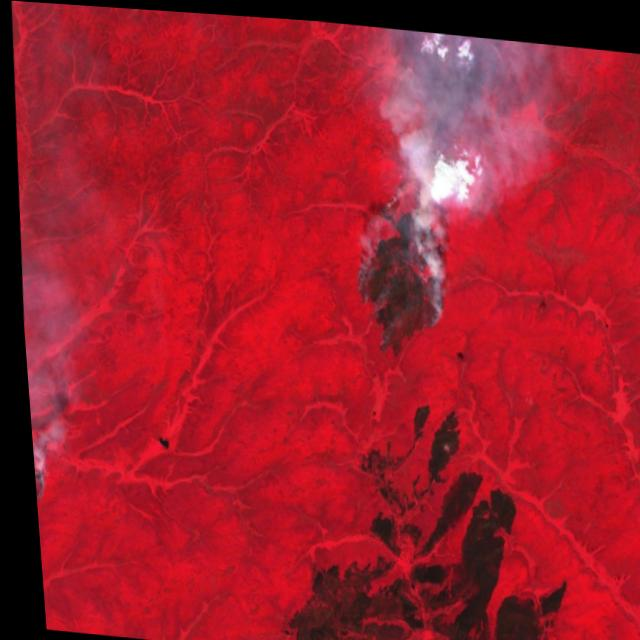fire: (342, 185, 448, 358), (26, 450, 47, 508)
